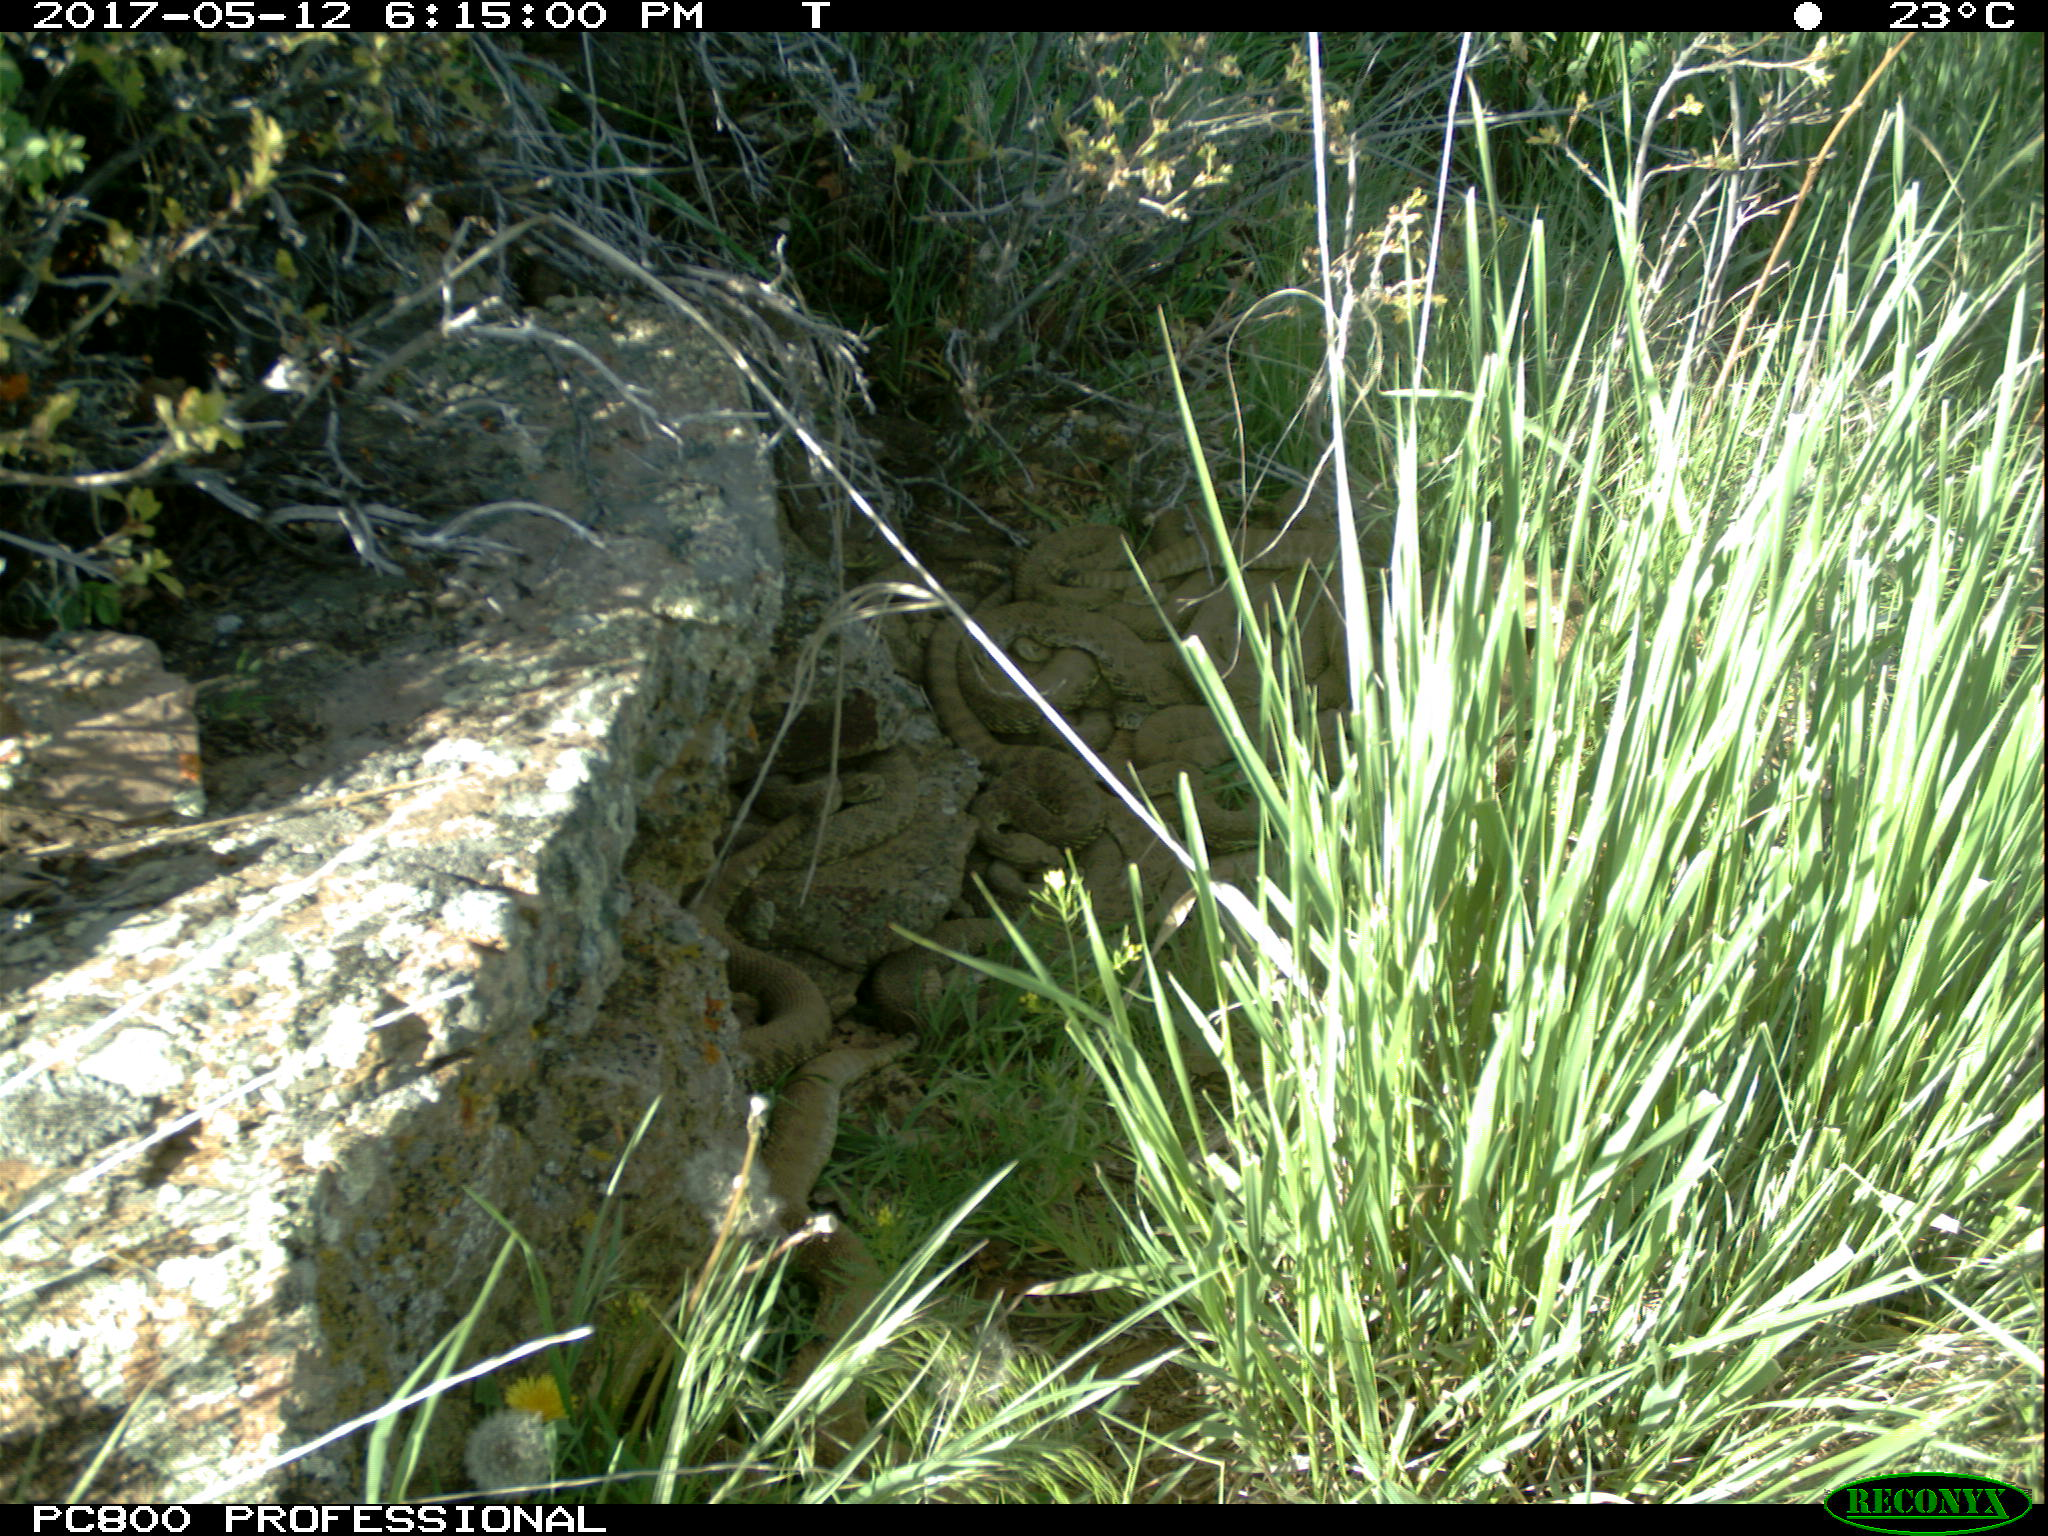snake: (760, 1020, 919, 1489), (926, 668, 1111, 857), (927, 608, 1188, 737), (1026, 526, 1388, 613), (695, 845, 819, 1076), (1174, 573, 1351, 733), (877, 916, 1061, 1041), (711, 763, 924, 855), (1106, 757, 1282, 849), (1496, 561, 1593, 670)
